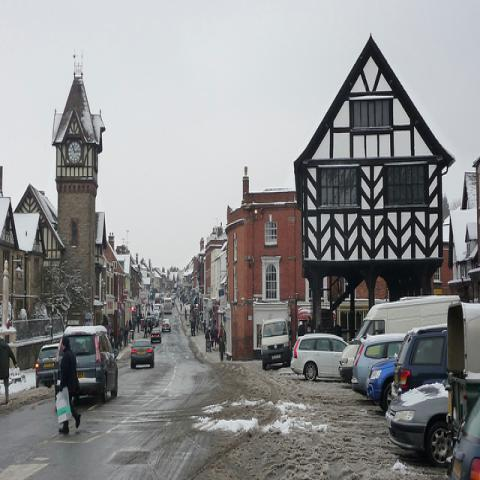car: (11, 44, 479, 479), (384, 380, 452, 466), (54, 325, 119, 405), (352, 334, 404, 396), (364, 340, 402, 412), (448, 389, 479, 475), (292, 335, 348, 381), (34, 342, 60, 388), (128, 339, 156, 371), (150, 330, 162, 343), (162, 318, 172, 332), (151, 312, 159, 326)
truck: (338, 292, 459, 380), (390, 329, 448, 398), (260, 318, 293, 371), (164, 298, 172, 314)
